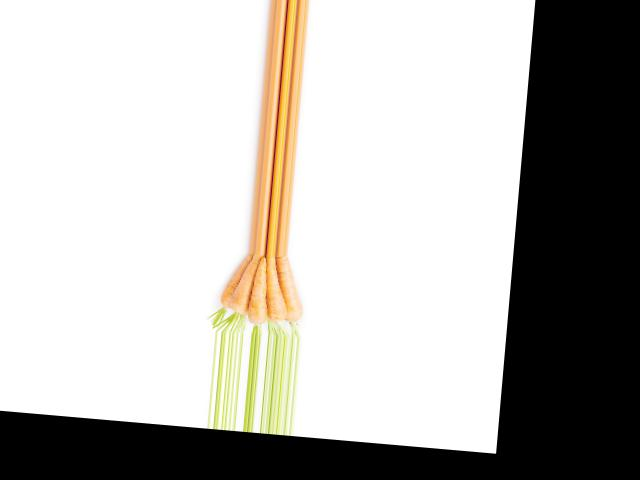carrot: (212, 250, 253, 310)
